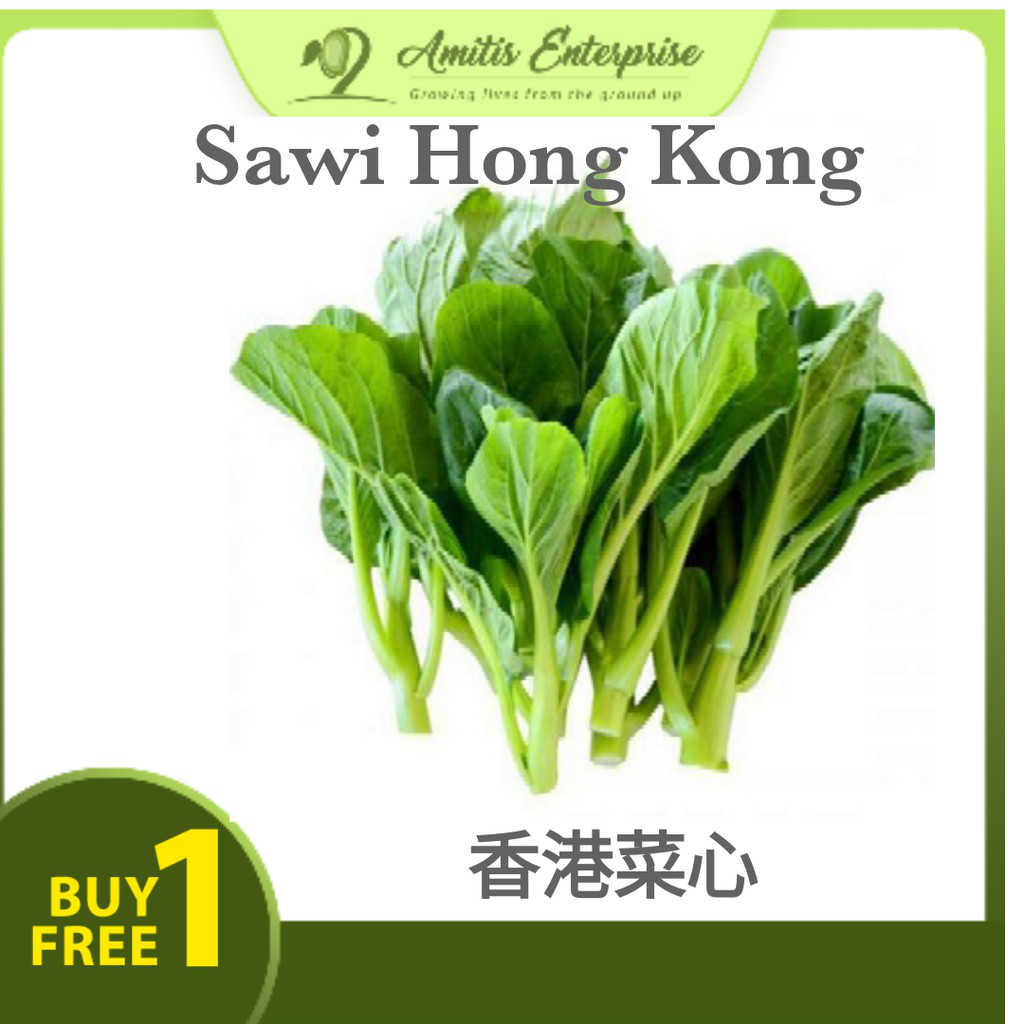Sawi: (236, 195, 945, 800)
